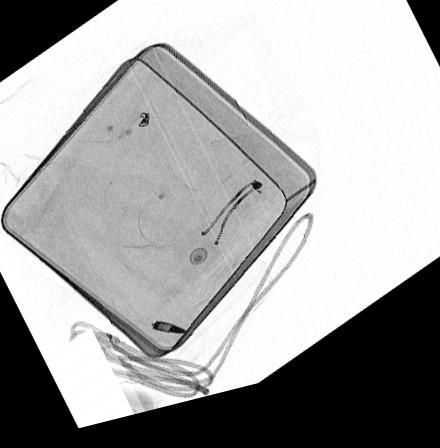Bullet: (152, 328, 187, 342)
